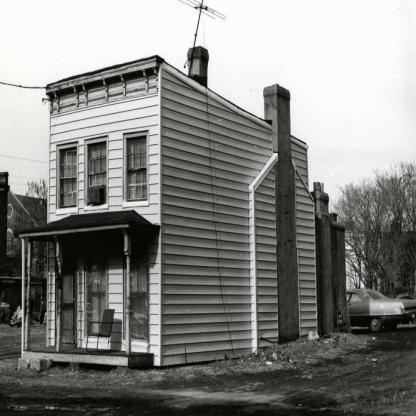door: (58, 272, 75, 340)
